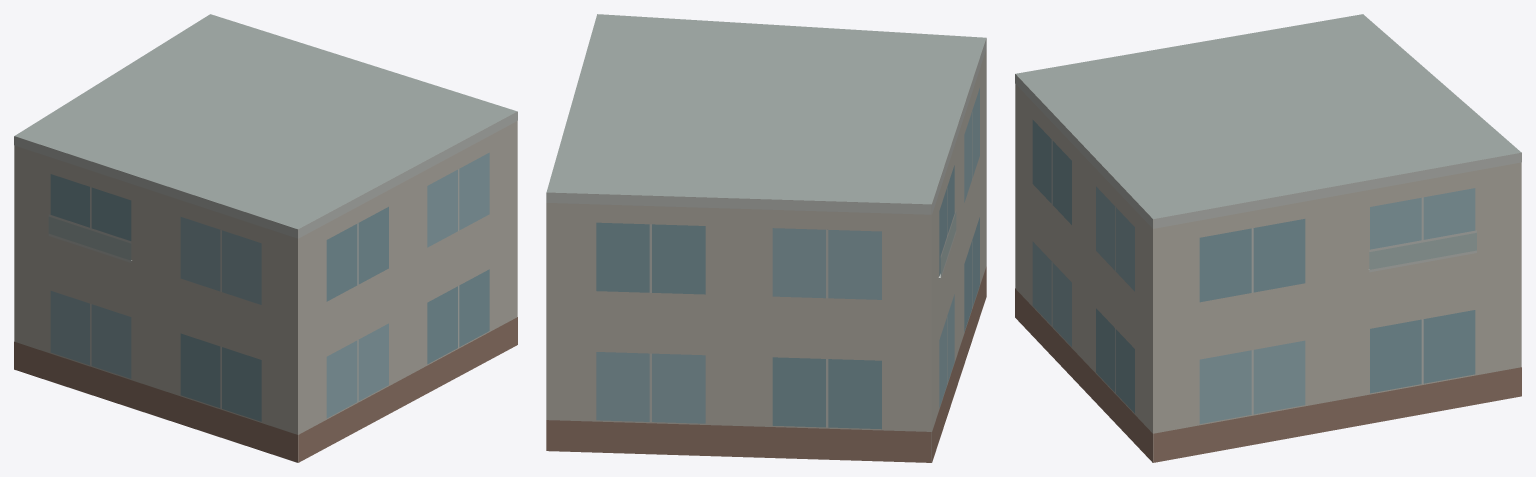
The model's file is survey-upis-32624514.glb.
The picture shows the model from 3 angles, left to right: view 1: azimuth 30°, elevation 25°; view 2: azimuth 150°, elevation 25°; view 3: azimuth 270°, elevation 25°; orthographic projection. The views are drawn at different scales.
Parts seen in each view (by area): view 1: survey-upis-32624514.tmp; view 2: survey-upis-32624514.tmp; view 3: survey-upis-32624514.tmp.
Boxes of the visible parts, x1=… form: survey-upis-32624514.tmp: x1=14, y1=14, x2=517, y2=462; survey-upis-32624514.tmp: x1=546, y1=14, x2=986, y2=462; survey-upis-32624514.tmp: x1=1015, y1=14, x2=1521, y2=462.
Bounding box in the file's own units: 11.03 × 6.1 × 11.5.
